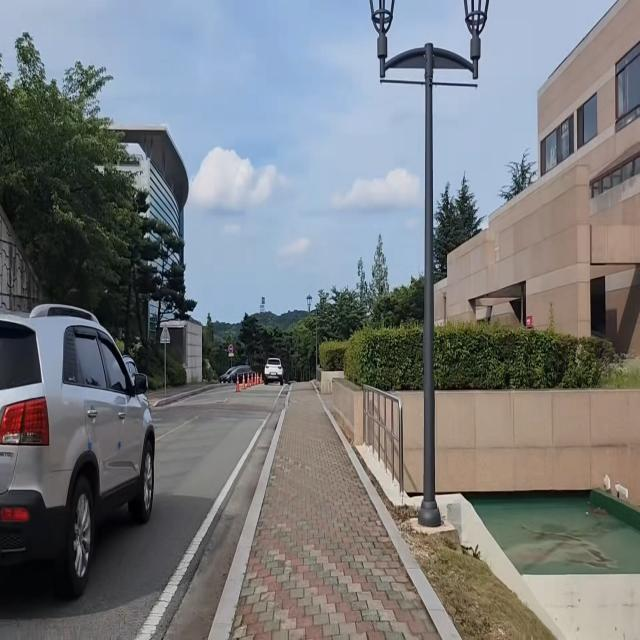obstacle: (361, 0, 496, 535), (0, 299, 159, 609), (262, 351, 286, 388)
road: (0, 384, 289, 640)
sidewalk: (210, 381, 462, 640)
